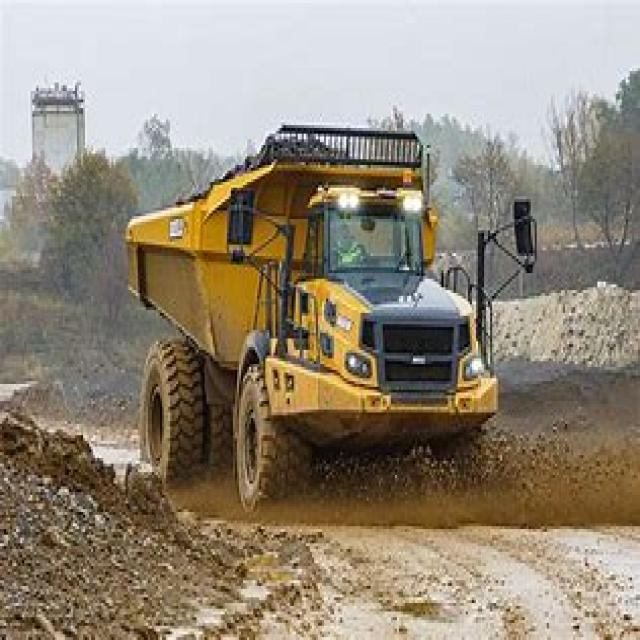dump_truck: (118, 117, 518, 526)
